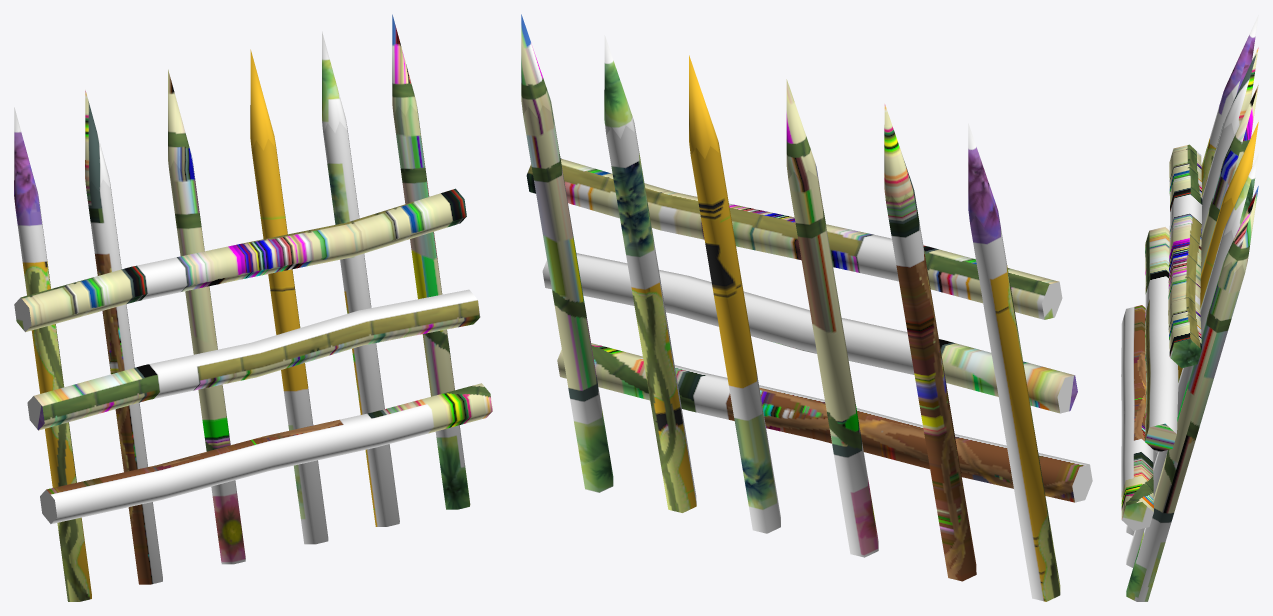
Rendered from wooden_fence01.fbx.
3 views of the same model, side by side, from view 1: azimuth 30°, elevation 25°; view 2: azimuth 150°, elevation 25°; view 3: azimuth 270°, elevation 25° (orthographic). The views are drawn at different scales.
Parts seen in each view (by area): view 1: wooden_fence01; view 2: wooden_fence01; view 3: wooden_fence01.
Boxes of the visible parts, x1=… form: wooden_fence01: x1=14, y1=14, x2=492, y2=601; wooden_fence01: x1=521, y1=14, x2=1092, y2=601; wooden_fence01: x1=1121, y1=15, x2=1258, y2=601.
Bounding box in the file's own units: 184 × 181 × 54.54.
